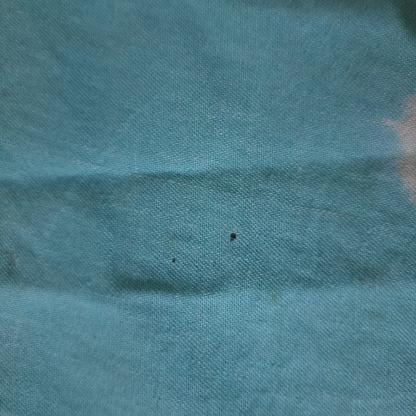spot: (224, 223, 240, 254), (169, 246, 181, 270)
